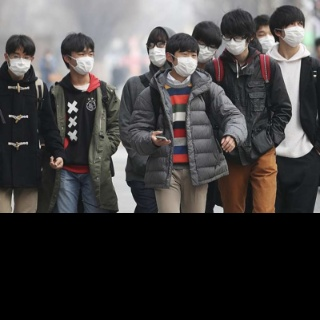with_mask: (70, 48, 95, 76), (282, 20, 307, 48), (220, 33, 248, 56), (173, 51, 196, 77), (8, 51, 32, 75), (147, 39, 168, 66), (194, 41, 216, 62), (257, 28, 276, 52)
